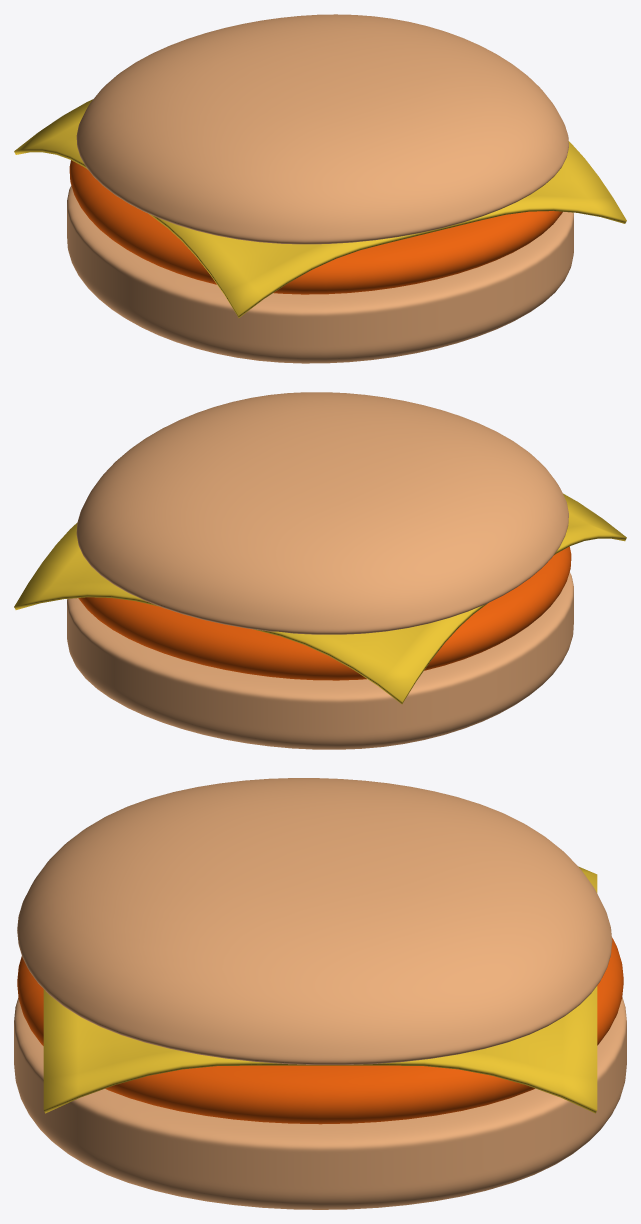
File: hamburger.glb
3 renders of one model, top to bottom at view 1: azimuth 30°, elevation 25°; view 2: azimuth 150°, elevation 25°; view 3: azimuth 270°, elevation 25°, orthographic. The views are drawn at different scales.
Parts seen in each view (by area): view 1: Cube.002, Cube.001, Cube, Plane; view 2: Cube.002, Cube.001, Cube, Plane; view 3: Cube.002, Cube.001, Cube, Plane.
Part boxes in pixels (x1,y1,x2,y2): Cube.002: (76,14,568,244); Cube.001: (67,185,573,363); Cube: (69,160,562,294); Plane: (14,99,626,317); Cube.002: (76,392,568,634); Cube.001: (67,572,573,749); Cube: (78,546,571,680); Plane: (14,493,626,704); Cube.002: (17,778,612,1064); Cube.001: (14,997,626,1209); Cube: (17,937,623,1124); Plane: (43,866,597,1113).
Bounding box in the file's own units: 9.12 × 4.39 × 9.12.
